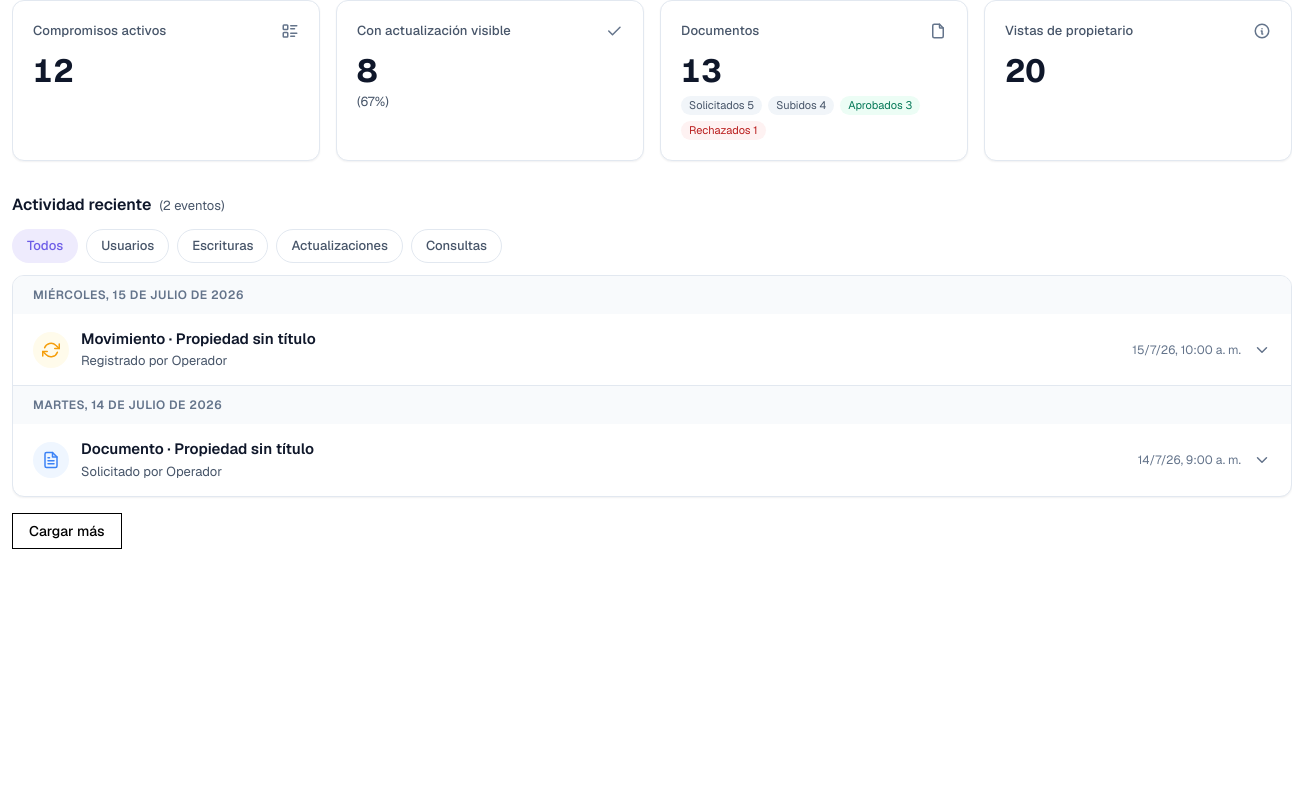
Test: TenantDetailViewPage — activity pagination ("Cargar más") › "Cargar más" disappears when a load-more returns an empty page even if total > loaded (backend depth cap)
The width and height of the screenshot is (1304, 800).
Click the button "Cargar más". click: (67, 531)
box: [12,513,122,549]
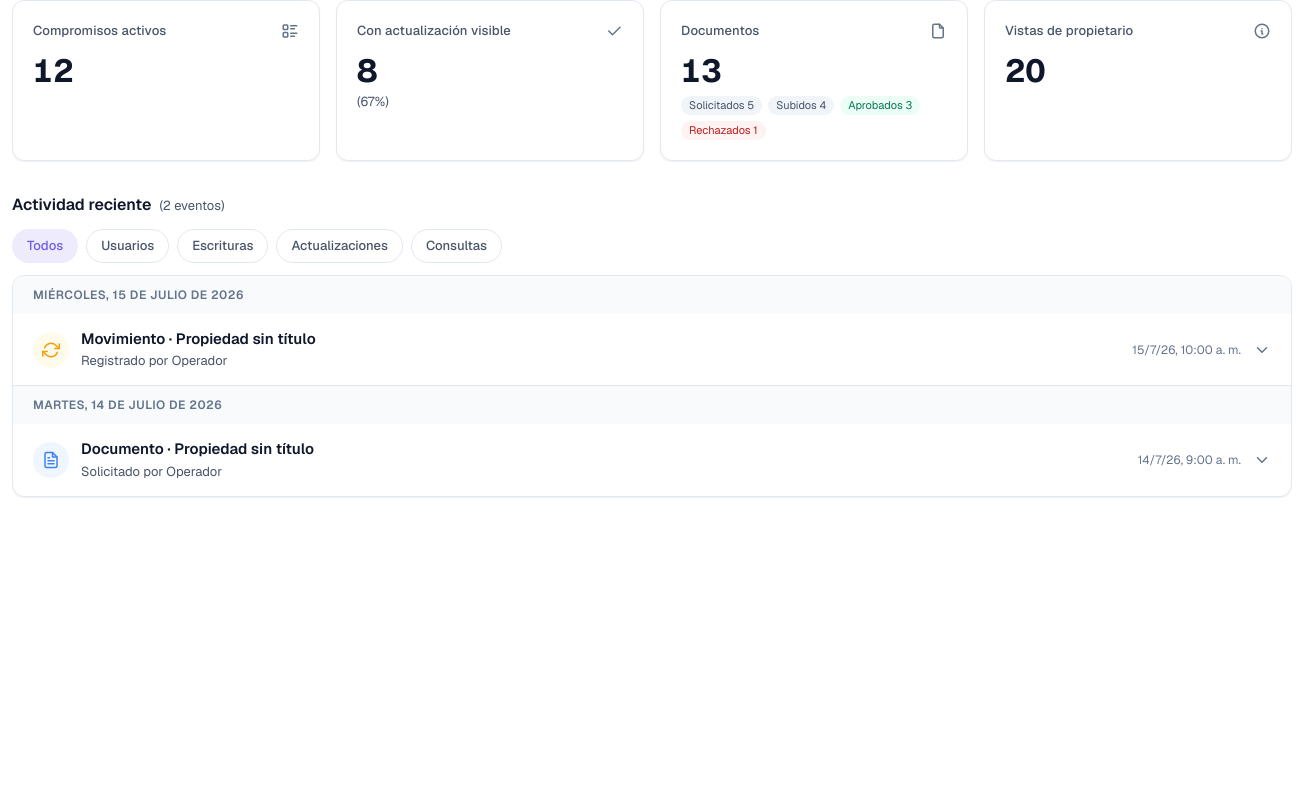
Check: the list item with test id "tenant-activity-item-movement-1" is shown, box [13,314,1291,386]
Check: the button "Cargar más" is gone
